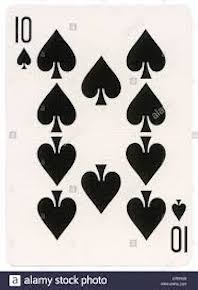TenOfSpades: (3, 3, 198, 272)
